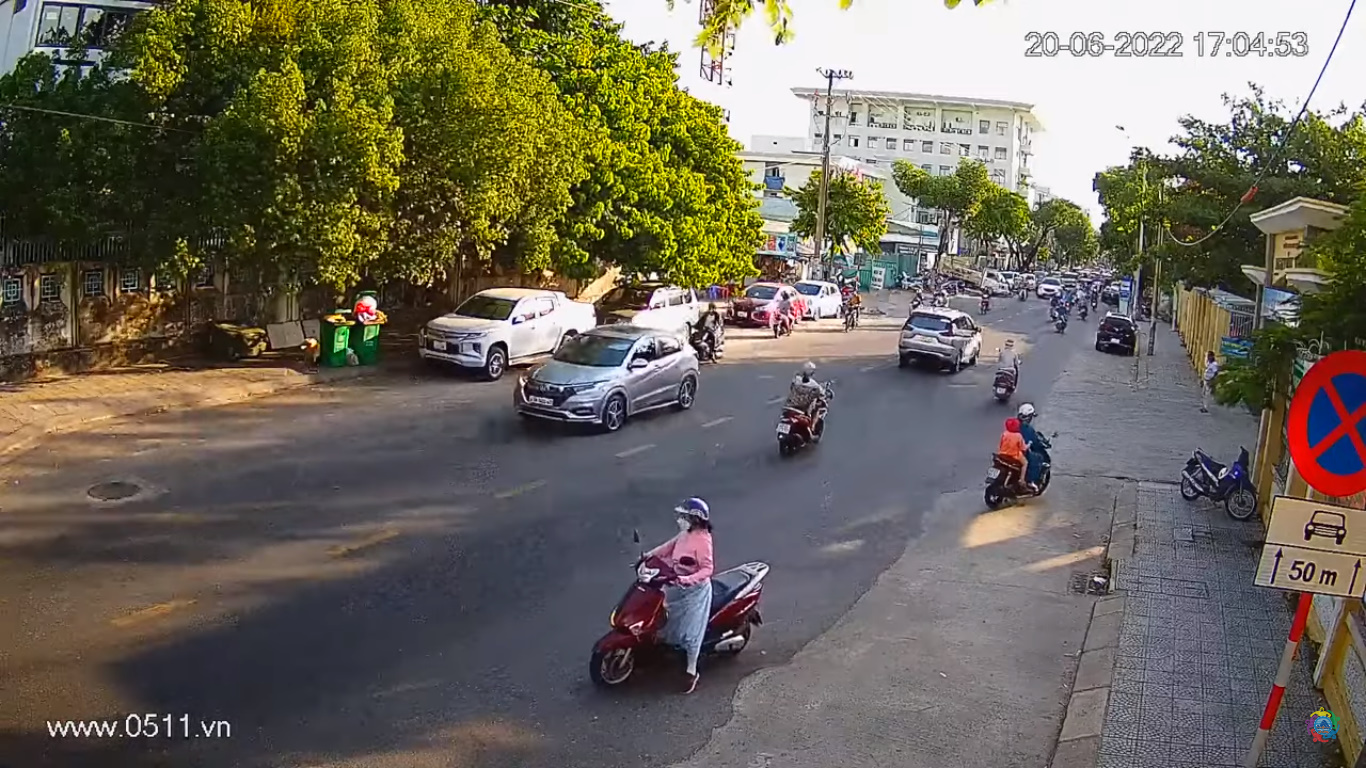car: (514, 329, 703, 437), (892, 304, 987, 378)
